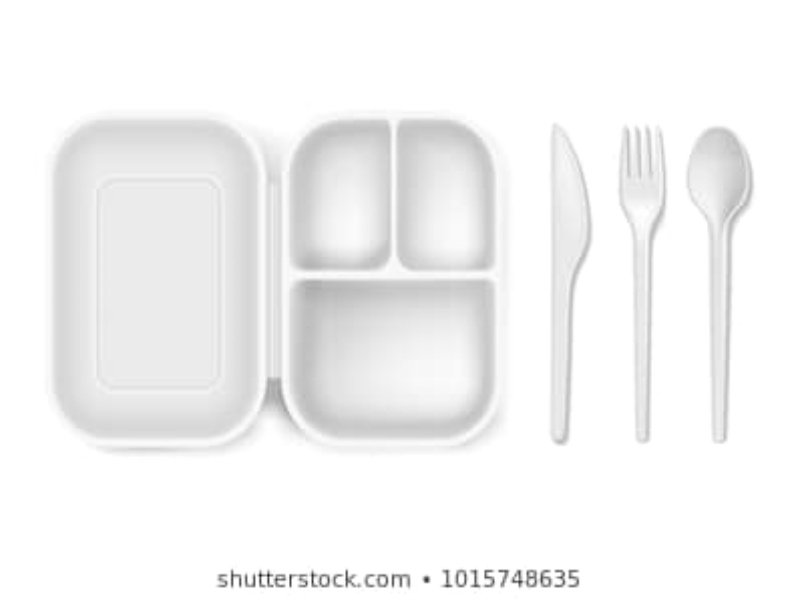plastic-plate: (37, 113, 510, 447)
plastic-silverware: (684, 124, 755, 447), (616, 123, 670, 444), (545, 119, 592, 446)
